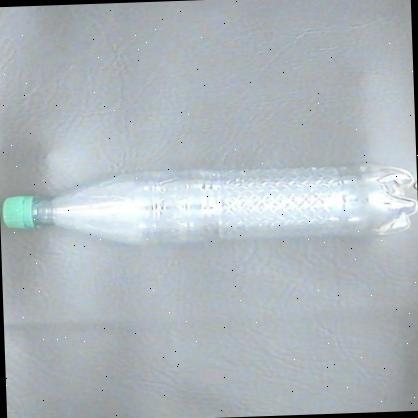bottle: (0, 156, 417, 254)
cap: (0, 190, 43, 238)
